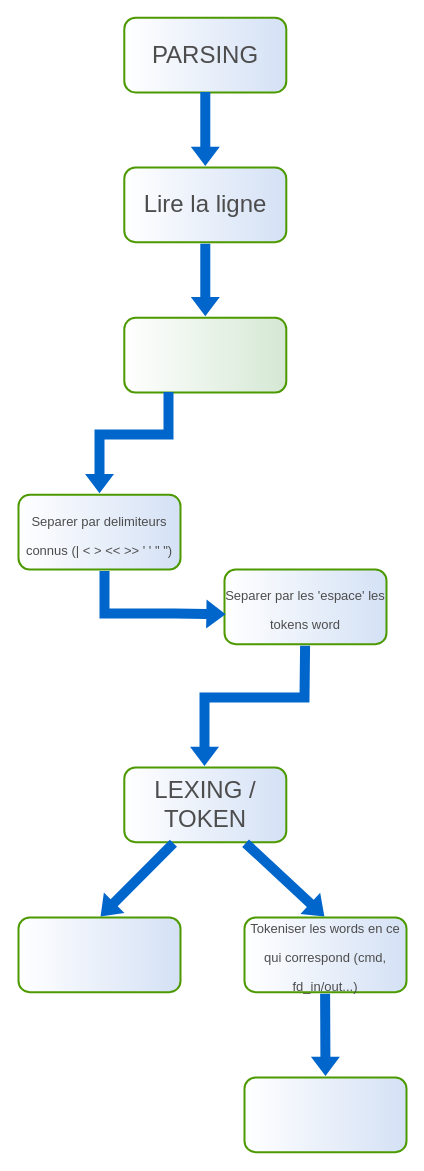
Some shapes in this 424 by 1171 pixel diagram are drawn without their labels. Each missing label, with the centre of its shape:
Lier les cmd/arg/fds entre eux: point (325, 1114)
Tokeniser les delimiteurs: point (99, 954)
Traiter la ligne: point (205, 354)
